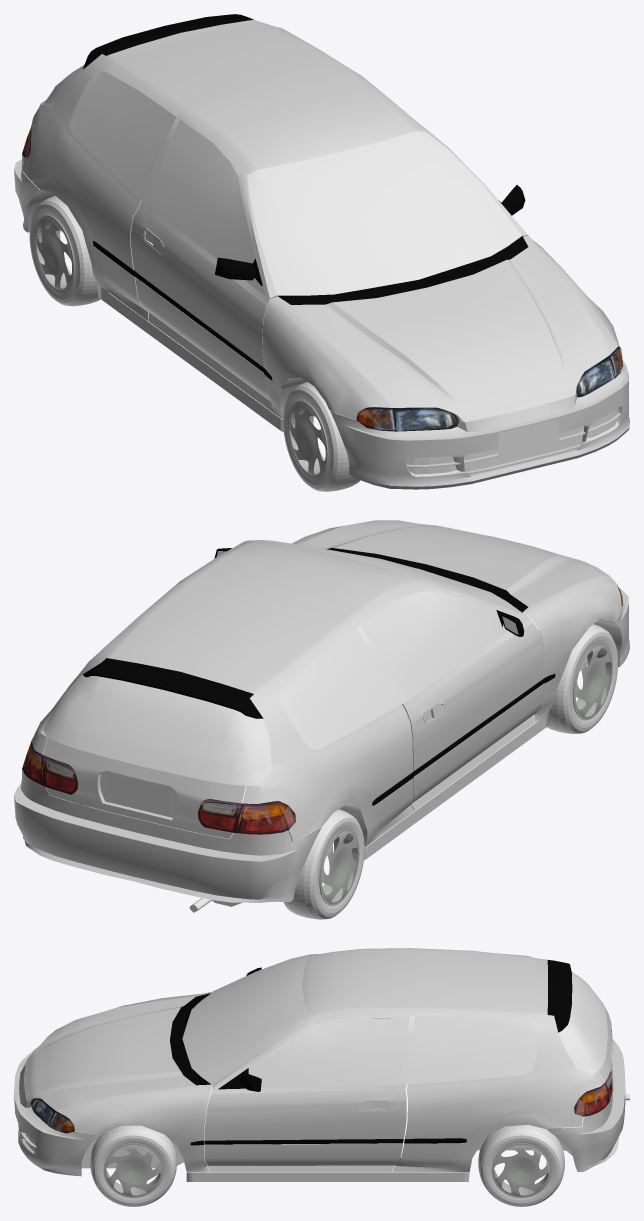
The picture shows the model from 3 angles, top to bottom: view 1: azimuth 30°, elevation 25°; view 2: azimuth 150°, elevation 25°; view 3: azimuth 270°, elevation 25°; orthographic projection. The views are drawn at different scales.
Parts seen in each view (by area): view 1: mainbody_Plane.001, frontbumper.001_Plane.013, mainbody.001_Plane.004, frontbumper_Plane.002, front_fender_Plane.007, mainbody.002_Plane.010, mainbody.003_Plane.011, Circle.003, Circle.002, mainbody.005_Plane.019, frontbumper.005_Plane.023, sideskirt_Plane.006 (+7 smaller); view 2: mainbody_Plane.001, rear_bumper_Plane.008, trunk.001_Plane.012, frontbumper.001_Plane.013, mainbody.002_Plane.010, mainbody.003_Plane.011, trunk_Plane.009, front_fender_Plane.007, Circle.003, Circle.002, mainbody.004_Plane.017, spoiler_Plane.005 (+6 smaller); view 3: mainbody_Plane.001, frontbumper.001_Plane.013, mainbody.001_Plane.004, mainbody.002_Plane.010, mainbody.003_Plane.011, front_fender_Plane.007, Circle.001, Circle, frontbumper_Plane.002, rear_bumper_Plane.008, trunk.001_Plane.012, sideskirt_Plane.006 (+9 smaller).
Part boxes in pixels (left/top/right/bottom): mainbody_Plane.001: left=22, top=20, right=528, bottom=408; frontbumper.001_Plane.013: left=291, top=247, right=609, bottom=421; mainbody.001_Plane.004: left=247, top=131, right=521, bottom=295; frontbumper_Plane.002: left=330, top=359, right=629, bottom=489; front_fender_Plane.007: left=262, top=236, right=620, bottom=419; mainbody.002_Plane.010: left=146, top=119, right=266, bottom=296; mainbody.003_Plane.011: left=69, top=71, right=176, bottom=199; Circle.003: left=29, top=195, right=108, bottom=306; Circle.002: left=283, top=382, right=360, bottom=491; mainbody.005_Plane.019: left=277, top=236, right=528, bottom=304; frontbumper.005_Plane.023: left=405, top=407, right=618, bottom=475; sideskirt_Plane.006: left=98, top=285, right=283, bottom=432; mainbody_Plane.001: left=31, top=540, right=545, bottom=847; rear_bumper_Plane.008: left=14, top=769, right=321, bottom=902; trunk.001_Plane.012: left=43, top=674, right=271, bottom=785; frontbumper.001_Plane.013: left=300, top=520, right=609, bottom=606; mainbody.002_Plane.010: left=361, top=591, right=524, bottom=700; mainbody.003_Plane.011: left=93, top=629, right=402, bottom=749; trunk_Plane.009: left=43, top=738, right=245, bottom=838; front_fender_Plane.007: left=292, top=526, right=621, bottom=723; Circle.003: left=283, top=809, right=364, bottom=919; Circle.002: left=536, top=624, right=617, bottom=733; mainbody.004_Plane.017: left=22, top=741, right=295, bottom=834; spoiler_Plane.005: left=83, top=658, right=263, bottom=718; mainbody_Plane.001: left=204, top=948, right=604, bottom=1172; frontbumper.001_Plane.013: left=24, top=996, right=195, bottom=1110; mainbody.001_Plane.004: left=182, top=955, right=308, bottom=1084; mainbody.002_Plane.010: left=248, top=1016, right=409, bottom=1086; mainbody.003_Plane.011: left=406, top=1016, right=537, bottom=1084; front_fender_Plane.007: left=56, top=992, right=211, bottom=1172; Circle.001: left=478, top=1124, right=564, bottom=1206; Circle: left=90, top=1125, right=176, bottom=1206; frontbumper_Plane.002: left=14, top=1047, right=100, bottom=1176; rear_bumper_Plane.008: left=546, top=1039, right=625, bottom=1171; trunk.001_Plane.012: left=558, top=972, right=607, bottom=1073; sideskirt_Plane.006: left=186, top=1172, right=469, bottom=1181.
Bounding box in the file's own units: 3.64 × 2.66 × 8.2.
11 materials, 1 textured.
